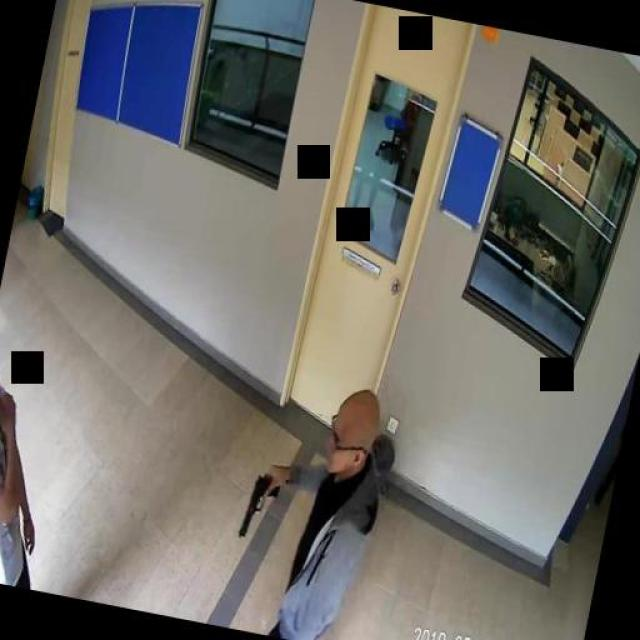gun: (236, 468, 280, 542)
